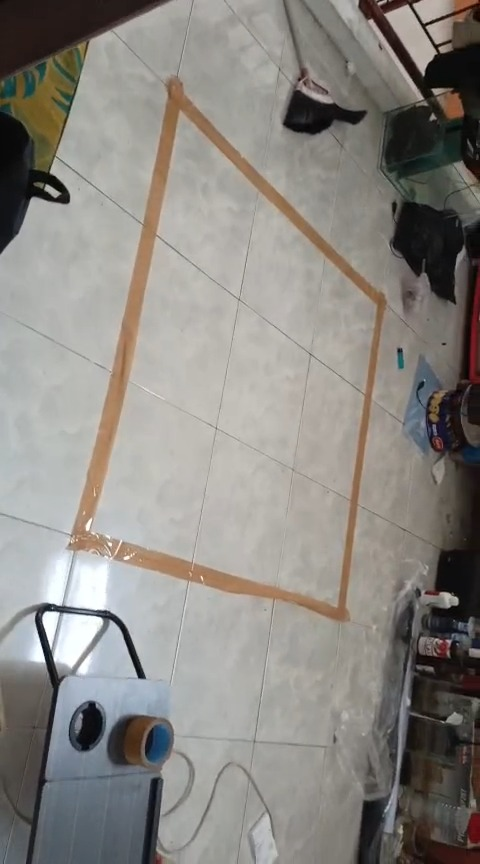floor marking: (68, 77, 385, 620)
